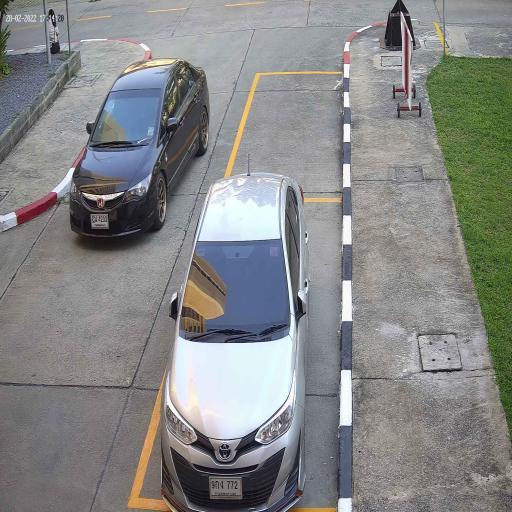car: (160, 171, 310, 512), (70, 56, 211, 242)
